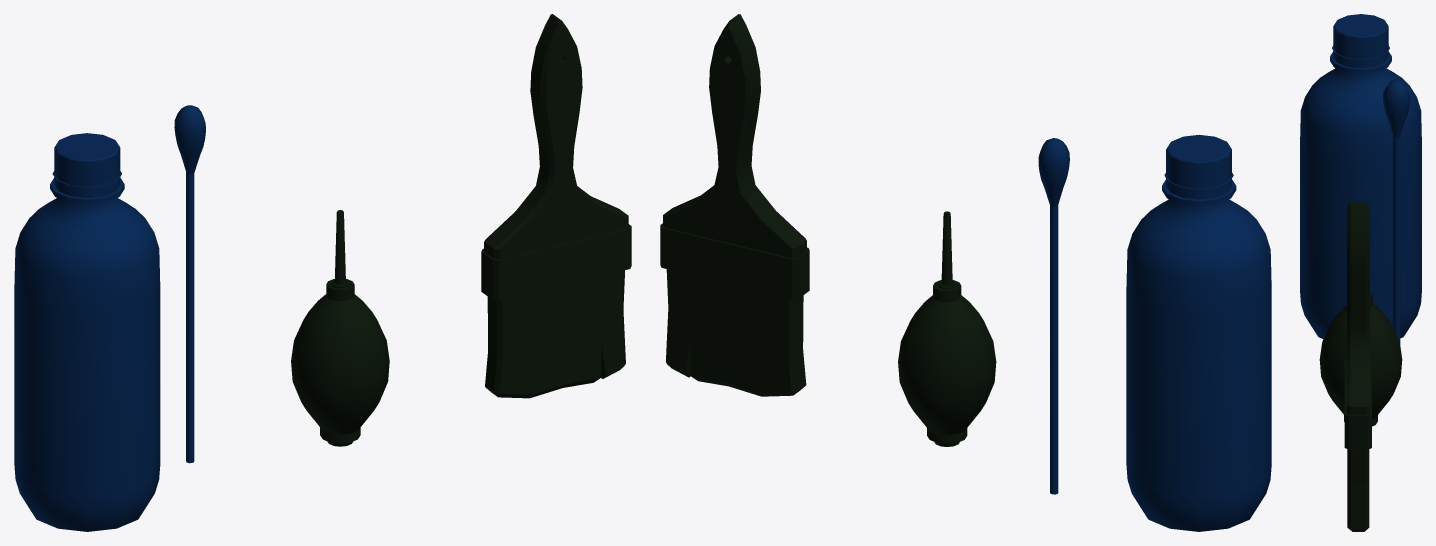
File: tools.FBX
The picture shows the model from 3 angles, left to right: view 1: azimuth 30°, elevation 25°; view 2: azimuth 150°, elevation 25°; view 3: azimuth 270°, elevation 25°; orthographic projection. The views are drawn at different scales.
Parts seen in each view (by area): view 1: ammonia, brushes, blowball, cotton; view 2: ammonia, brushes, blowball, cotton; view 3: ammonia, brushes, blowball, cotton.
Part boxes in pixels (box(x1,y1,x2,y2)): ammonia: box(14, 133, 160, 531); brushes: box(481, 14, 631, 398); blowball: box(291, 210, 389, 446); cotton: box(174, 105, 205, 463); ammonia: box(1126, 135, 1271, 531); brushes: box(660, 14, 809, 396); blowball: box(898, 211, 996, 446); cotton: box(1038, 138, 1069, 494); ammonia: box(1300, 14, 1421, 339); brushes: box(1344, 202, 1371, 531); blowball: box(1319, 292, 1402, 426); cotton: box(1383, 79, 1410, 344).
Size of the model in its own units: 121 by 72.84 by 25.55.
